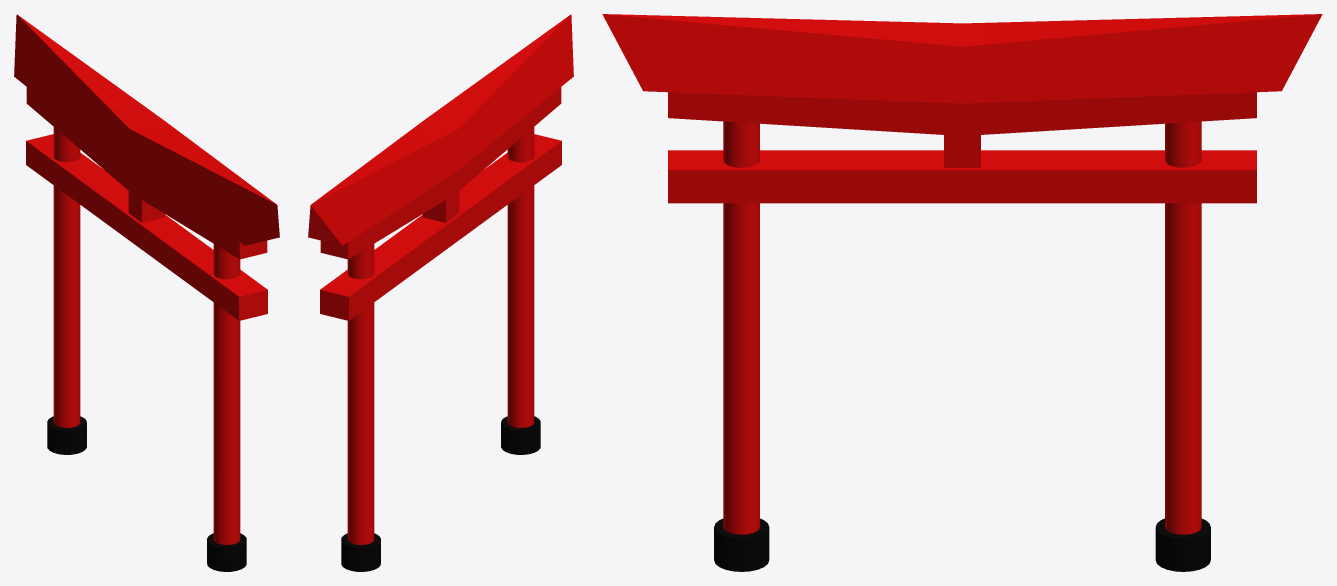
Rendered from ToriiGateUVWrapV2.fbx.
3 views of the same model, side by side, from view 1: azimuth 30°, elevation 25°; view 2: azimuth 150°, elevation 25°; view 3: azimuth 270°, elevation 25° (orthographic). The views are drawn at different scales.
Visible parts, largest first — view 1: pCube5; view 2: pCube5; view 3: pCube5.
Boxes of the visible parts, bbox=[...] form: pCube5: bbox=[14, 14, 279, 571]; pCube5: bbox=[308, 14, 573, 571]; pCube5: bbox=[602, 14, 1322, 571].
Size of the model in its own units: 1.5 by 16.38 by 19.58.
